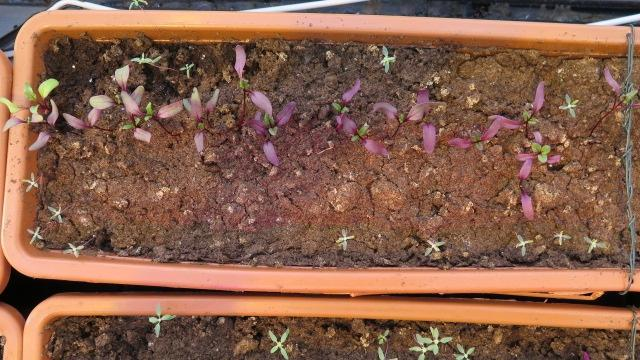weed: (265, 325, 291, 358), (374, 42, 398, 74), (555, 90, 580, 119), (331, 226, 357, 251), (512, 231, 536, 256), (420, 236, 446, 256), (581, 234, 608, 253), (18, 170, 40, 193), (22, 224, 45, 244), (59, 240, 86, 257), (173, 60, 196, 79), (549, 227, 573, 245)
